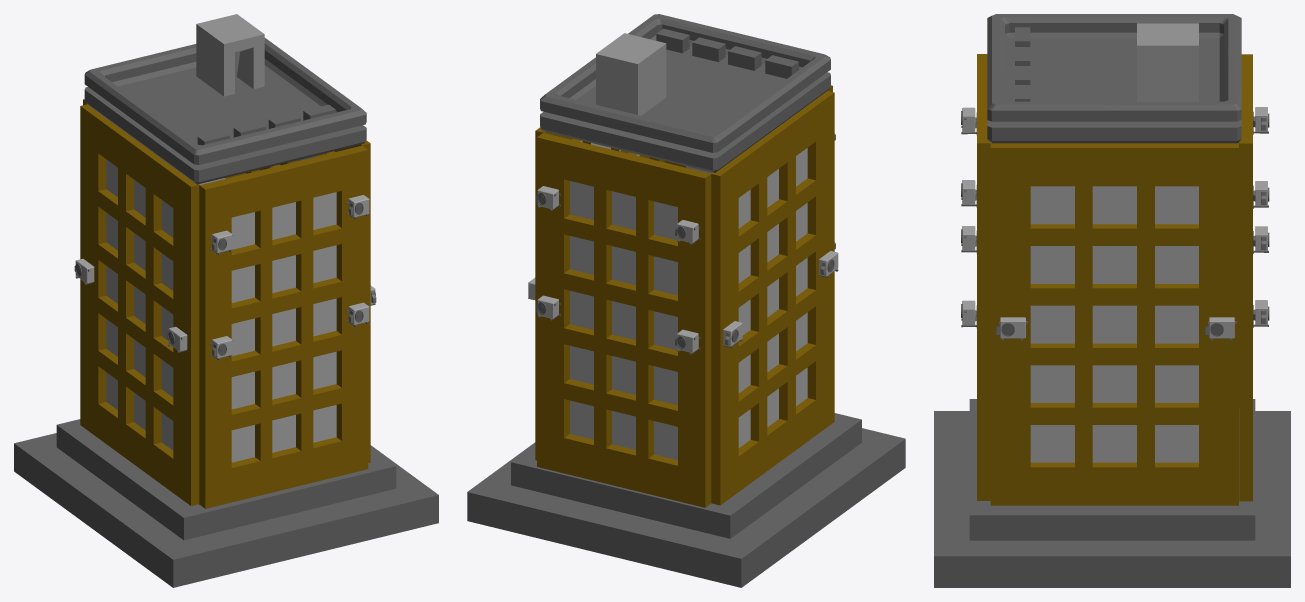
File: Batiment_jaune.fbx
The picture shows the model from 3 angles, left to right: view 1: azimuth 30°, elevation 25°; view 2: azimuth 150°, elevation 25°; view 3: azimuth 270°, elevation 25°; orthographic projection. The views are drawn at different scales.
Visible parts, largest first — view 1: pCube187; view 2: pCube187; view 3: pCube187.
Part boxes in pixels (bbox=[...]): pCube187: bbox=[14, 14, 438, 587]; pCube187: bbox=[467, 14, 905, 587]; pCube187: bbox=[934, 14, 1290, 587].
Bounding box in the file's own units: 452 × 720 × 469.
